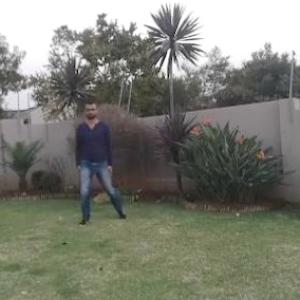follow: (76, 95, 113, 221)
